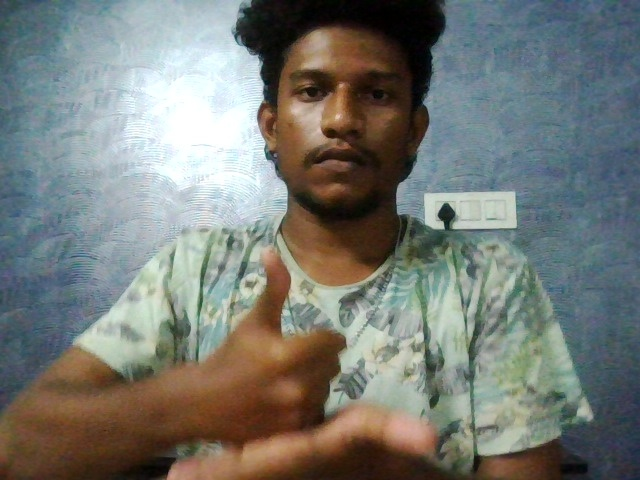help: (135, 236, 456, 480)
